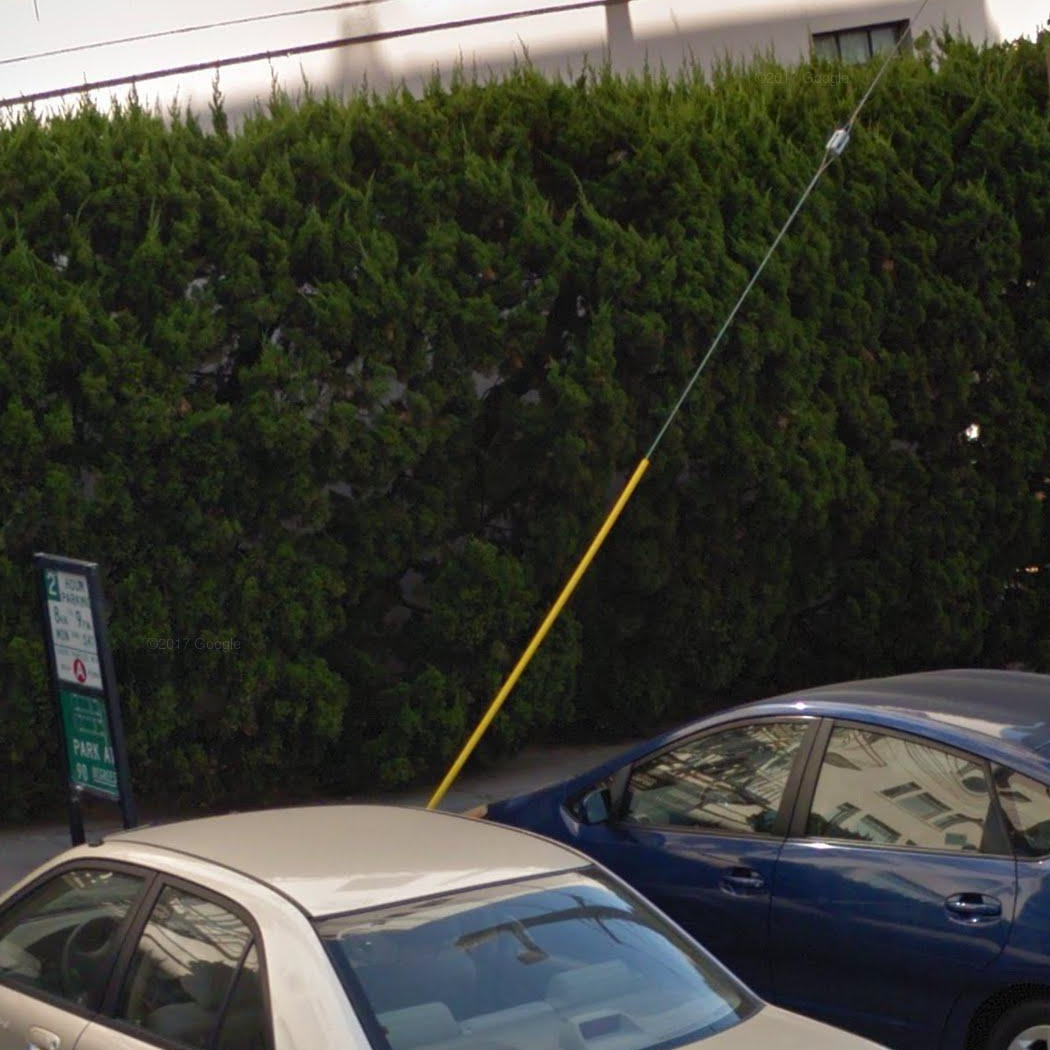2 Hour Parking: (41, 567, 103, 692)
